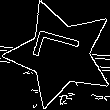L_E: (30, 32, 90, 76)
